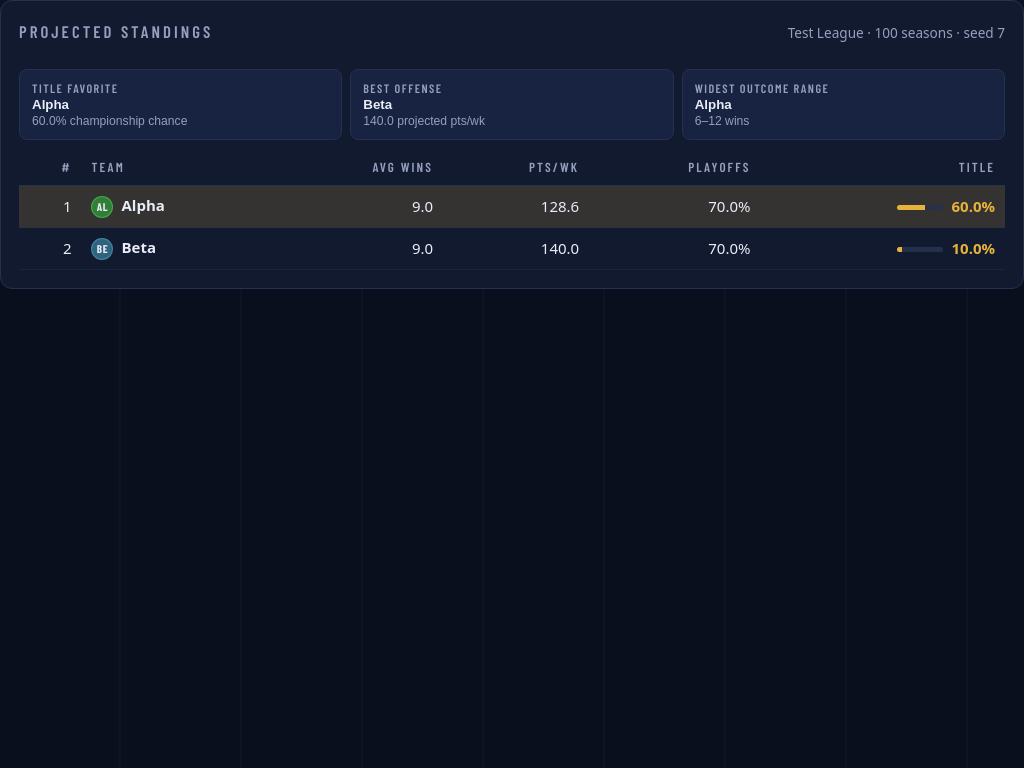
Test: Standings › shows run insights and opens team-specific simulation details
expect the text "Title favorite" is shown: met, box [32,81,118,95]
Click the button "Alpha".
click(143, 206)  # box [122,195,165,217]
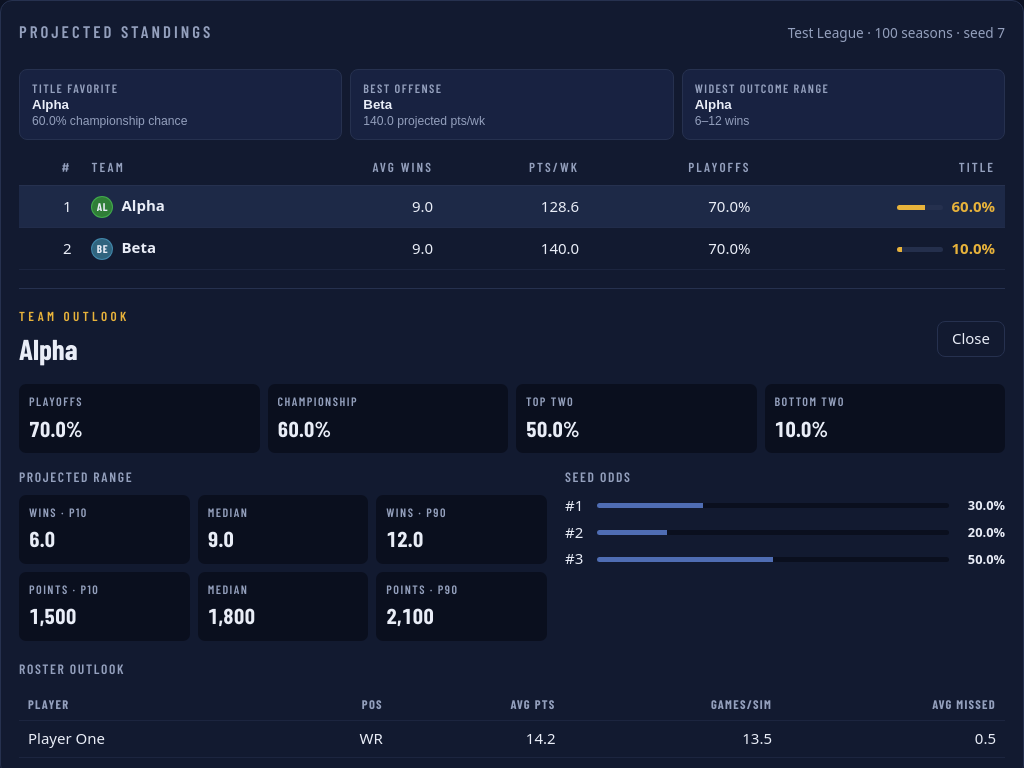
expect the text "Player One" is shown: met, box [19,721,279,758]
expect the text "60.0%" is shown: met, box [278,415,331,441]
